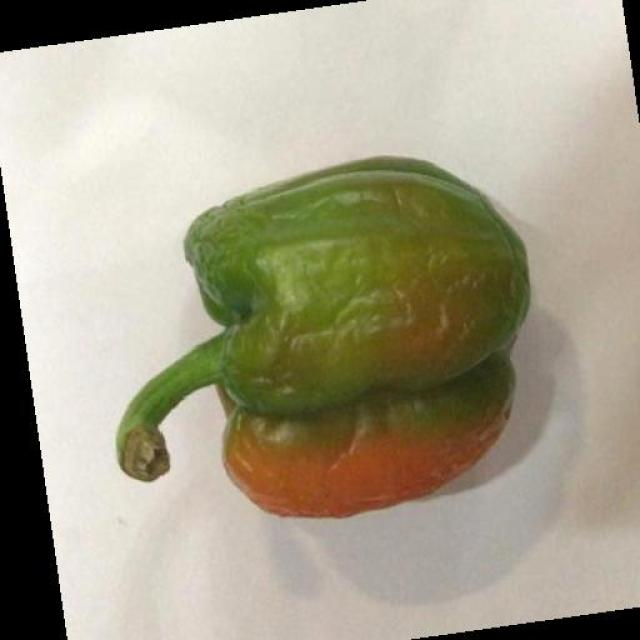Stale_Capsicum: (195, 89, 526, 525)
